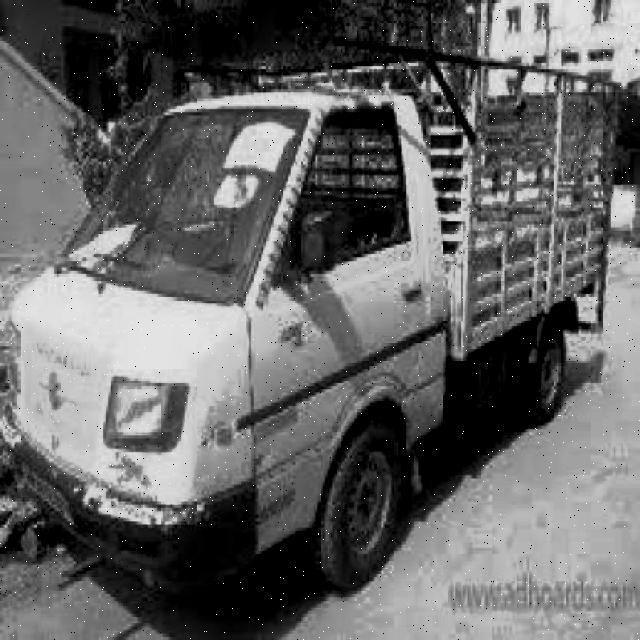LCV: (8, 72, 596, 531)
